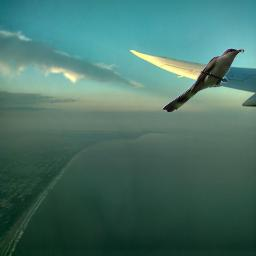Cuckoo: (162, 47, 244, 112)
